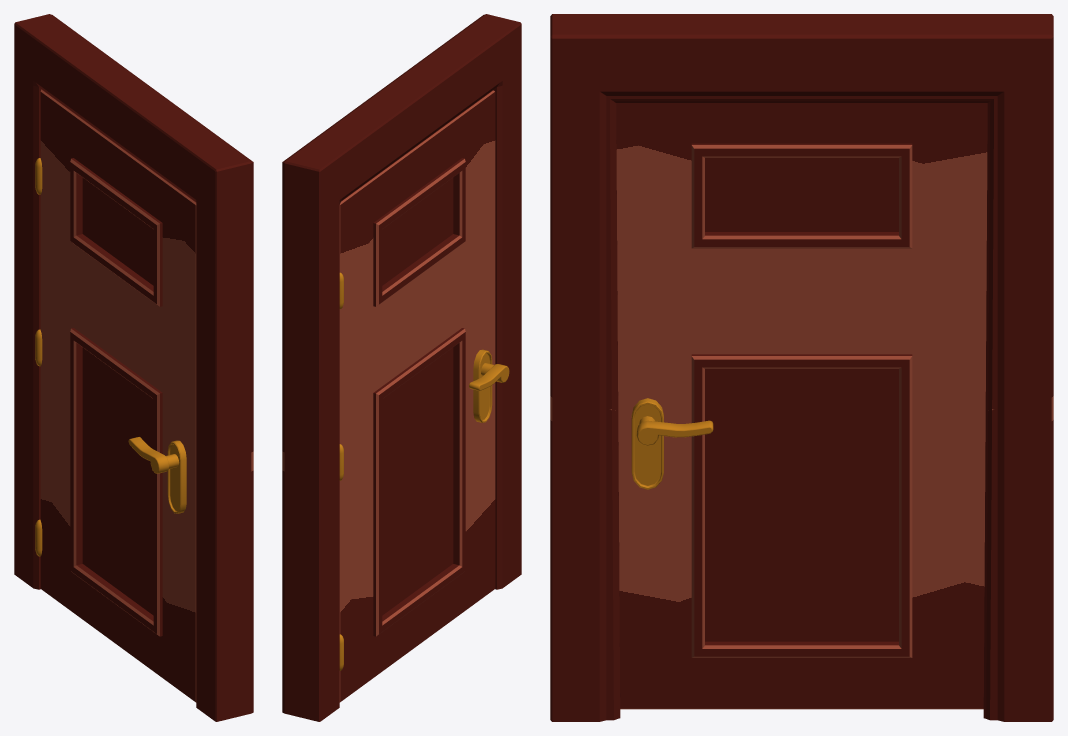
File: HouseDoor.fbx
The picture shows the model from 3 angles, left to right: view 1: azimuth 30°, elevation 25°; view 2: azimuth 150°, elevation 25°; view 3: azimuth 270°, elevation 25°; orthographic projection. The views are drawn at different scales.
Parts seen in each view (by area): view 1: Door, DoorFrame, Door_Knob; view 2: Door, DoorFrame, Door_Knob; view 3: Door, DoorFrame, Door_Knob.
Boxes of the visible parts, x1=… form: Door: x1=35, y1=89, x2=196, y2=702; DoorFrame: x1=14, y1=14, x2=253, y2=721; Door_Knob: x1=128, y1=437, x2=179, y2=473; Door: x1=339, y1=90, x2=495, y2=702; DoorFrame: x1=282, y1=14, x2=521, y2=721; Door_Knob: x1=469, y1=363, x2=509, y2=390; Door: x1=616, y1=103, x2=987, y2=709; DoorFrame: x1=550, y1=14, x2=1053, y2=721; Door_Knob: x1=636, y1=416, x2=713, y2=445.
Bounding box in the file's own units: 28.98 × 226 × 150.
